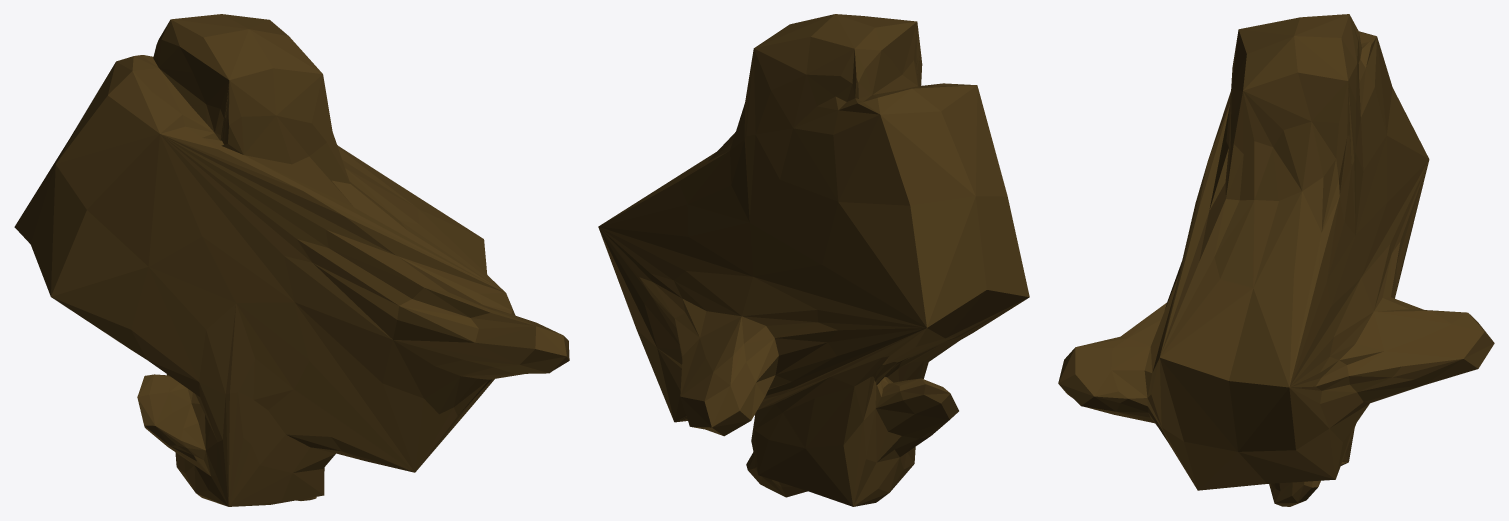
3 views of the same model, side by side, from view 1: azimuth 30°, elevation 25°; view 2: azimuth 150°, elevation 25°; view 3: azimuth 270°, elevation 25° (orthographic). The views are drawn at different scales.
Parts seen in each view (by area): view 1: 427_Cube.1736; view 2: 427_Cube.1736; view 3: 427_Cube.1736.
Part boxes in pixels (x1,y1,x2,y2): 427_Cube.1736: [14, 14, 569, 506]; 427_Cube.1736: [598, 14, 1029, 506]; 427_Cube.1736: [1058, 14, 1494, 506].
Size of the model in its own units: 11.69 by 12.66 by 11.17.
